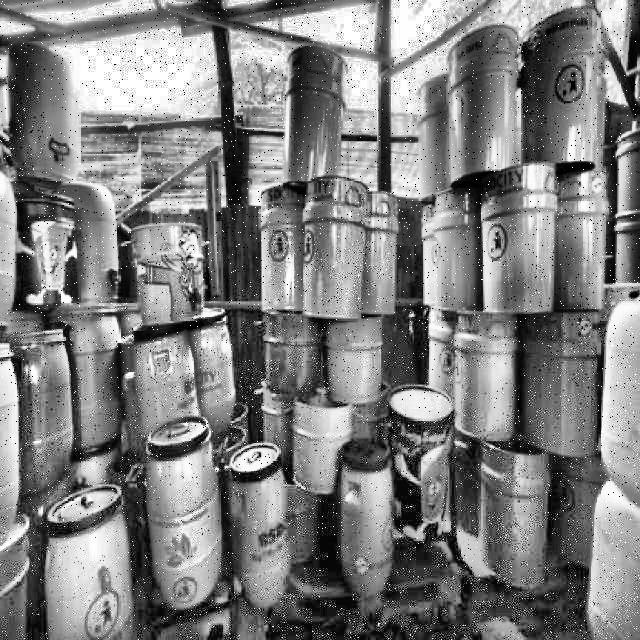Dustbin: (142, 414, 228, 612), (520, 5, 608, 166), (43, 478, 129, 639), (442, 23, 522, 185), (472, 442, 550, 592), (223, 437, 288, 616), (5, 40, 78, 186), (280, 42, 354, 184), (334, 435, 396, 603), (298, 178, 370, 322)
